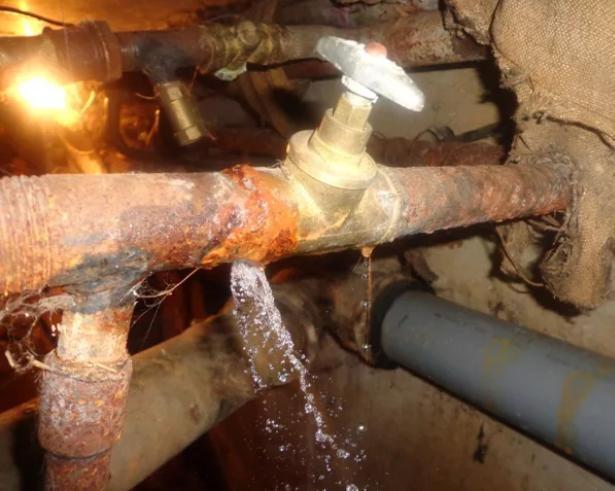pipe burst: (227, 258, 308, 370)
water drop: (315, 430, 331, 443), (361, 245, 374, 258), (314, 414, 326, 425), (337, 450, 351, 459), (346, 483, 360, 491), (304, 404, 316, 413), (305, 394, 315, 404), (279, 375, 287, 383)
